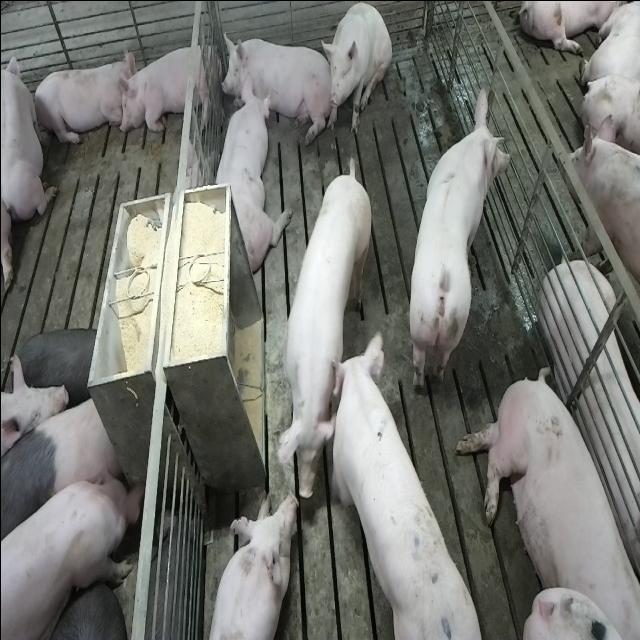Lateral_lying: (453, 362, 636, 636), (537, 258, 640, 581)
Sitting: (324, 2, 392, 136)
Standing: (323, 326, 484, 636), (405, 83, 513, 401), (276, 154, 373, 500), (2, 467, 141, 640), (2, 388, 124, 562), (562, 117, 640, 366)
Sternal_lying: (210, 83, 283, 274), (202, 490, 293, 638), (220, 28, 328, 138), (2, 42, 56, 224), (117, 38, 215, 138), (31, 52, 131, 149)
